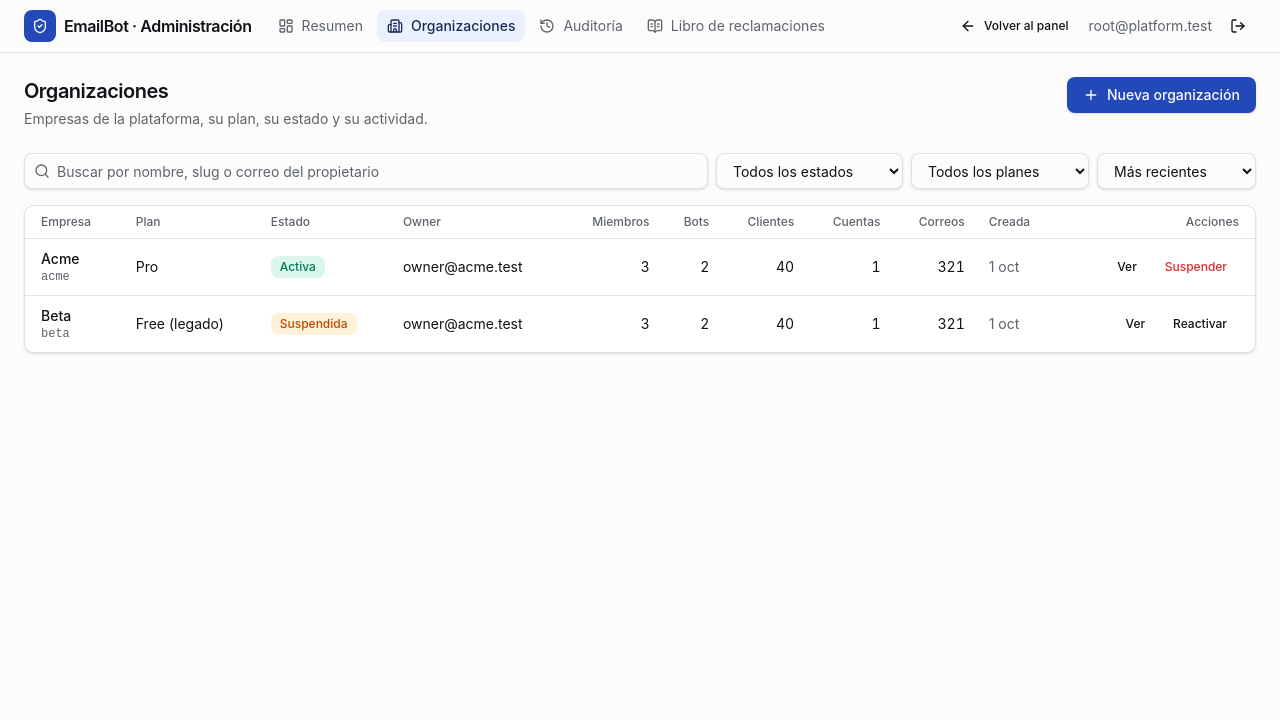
organizations table › suspend: explains the effect, PATCHes status SUSPENDED after confirming and refreshes the list
Expected: the table is shown, left=25, top=206, right=1255, bottom=352
Step 1. Click the button with aria-label "Suspender Acme" → (1196,267), box left=1153, top=251, right=1239, bottom=283
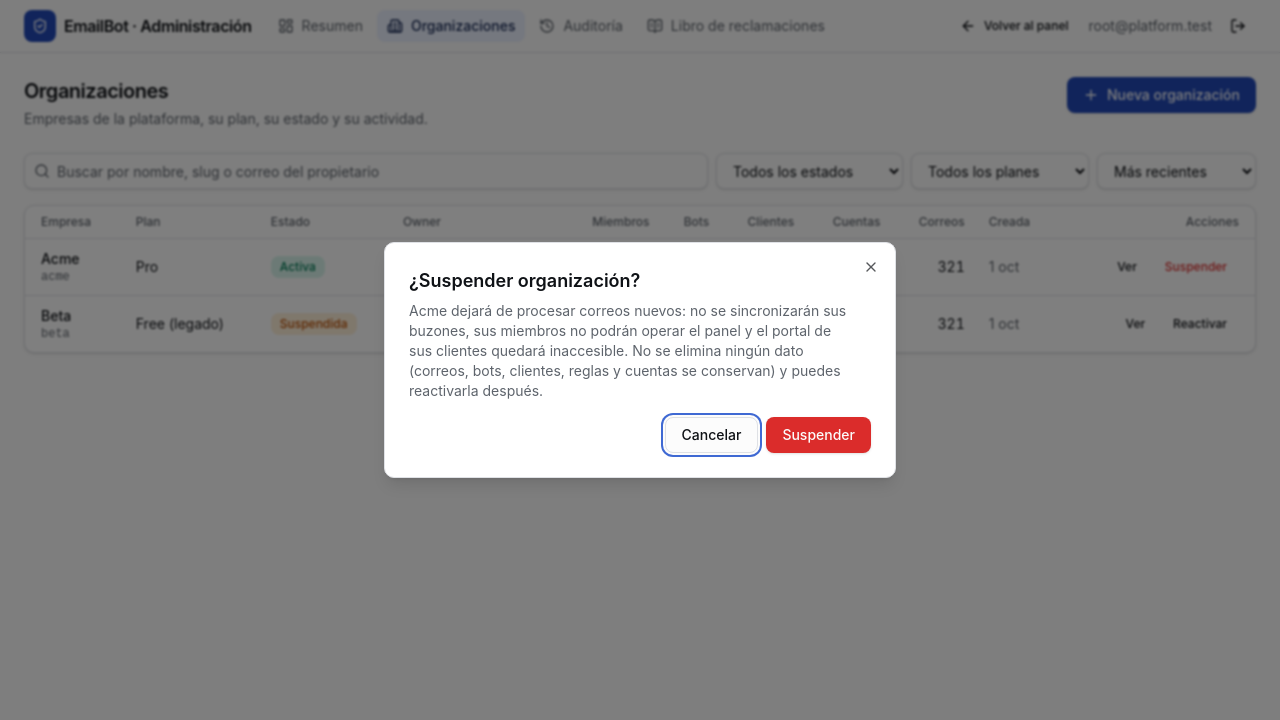
Expected: the heading "¿Suspender organización?" is shown, left=409, top=270, right=640, bottom=291
Expected: the dialog shows "dejará de procesar correos nuevos", left=409, top=302, right=846, bottom=399
Expected: the dialog shows "No se elimina ningún dato", left=409, top=302, right=846, bottom=399
Step 2. Click the button "Suspender" → (819,435), box left=766, top=417, right=871, bottom=453
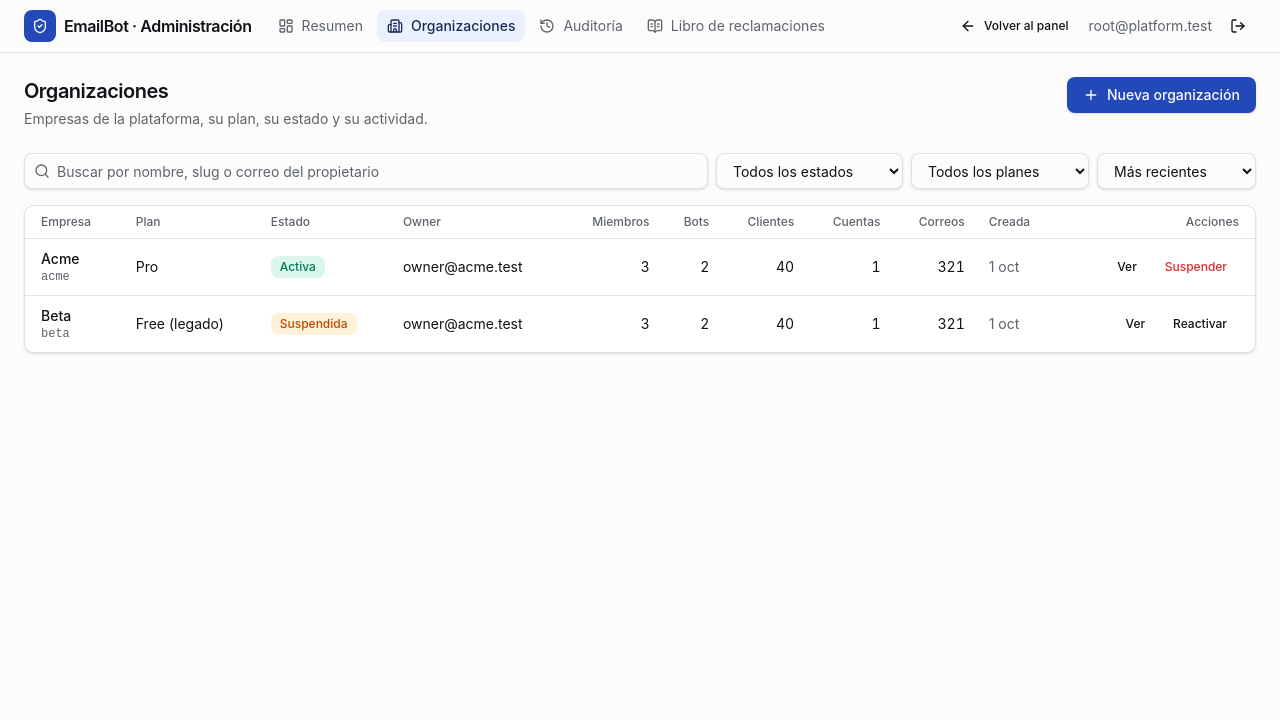
Expected: the dialog is gone
